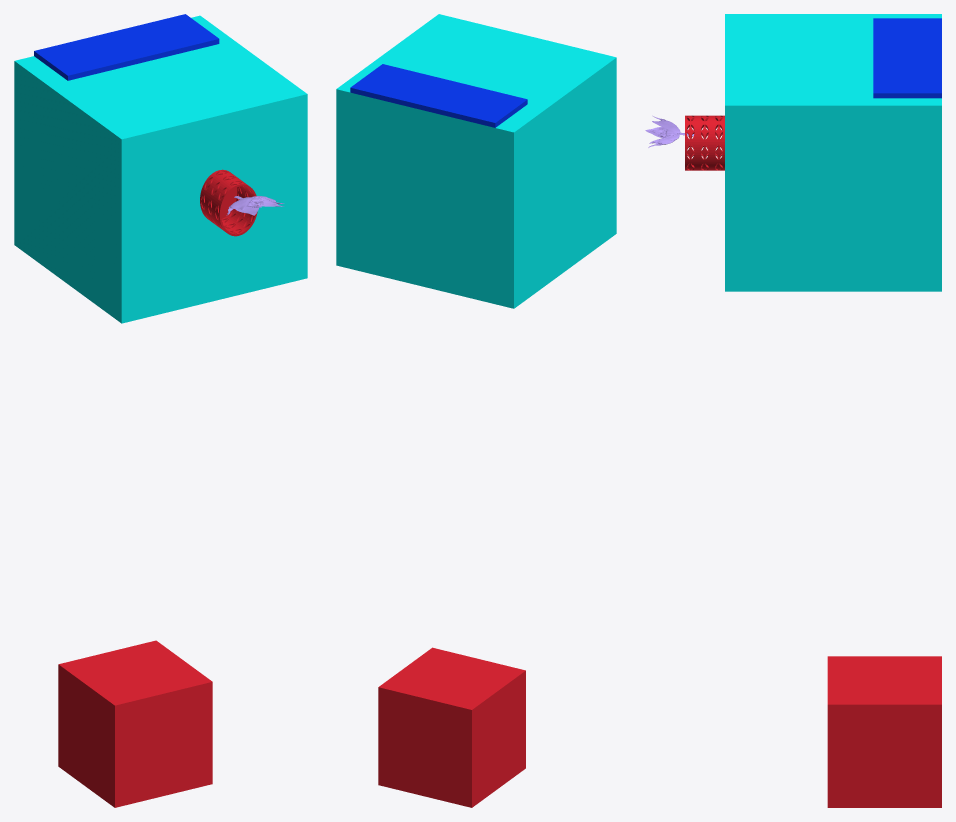
Rendered from tinker.obj.
3 renders of one model, left to right at view 1: azimuth 30°, elevation 25°; view 2: azimuth 150°, elevation 25°; view 3: azimuth 270°, elevation 25°, orthographic. The views are drawn at different scales.
Parts seen in each view (by area): view 1: group_0_65535, group_0_15277357, group_0_14079, group_0_12230652; view 2: group_0_65535, group_0_15277357, group_0_14079; view 3: group_0_65535, group_0_15277357, group_0_14079, group_0_12230652.
Part boxes in pixels (box(x1,y1,x2,y2)): group_0_65535: box(14, 15, 307, 323); group_0_15277357: box(58, 169, 257, 807); group_0_14079: box(34, 14, 219, 80); group_0_12230652: box(226, 196, 284, 215); group_0_65535: box(336, 14, 616, 308); group_0_15277357: box(378, 647, 525, 807); group_0_14079: box(350, 64, 527, 127); group_0_65535: box(725, 14, 941, 291); group_0_15277357: box(685, 115, 941, 807); group_0_14079: box(873, 18, 941, 98); group_0_12230652: box(645, 115, 694, 147).
Bounding box in the file's own units: 38 × 141 × 52.
